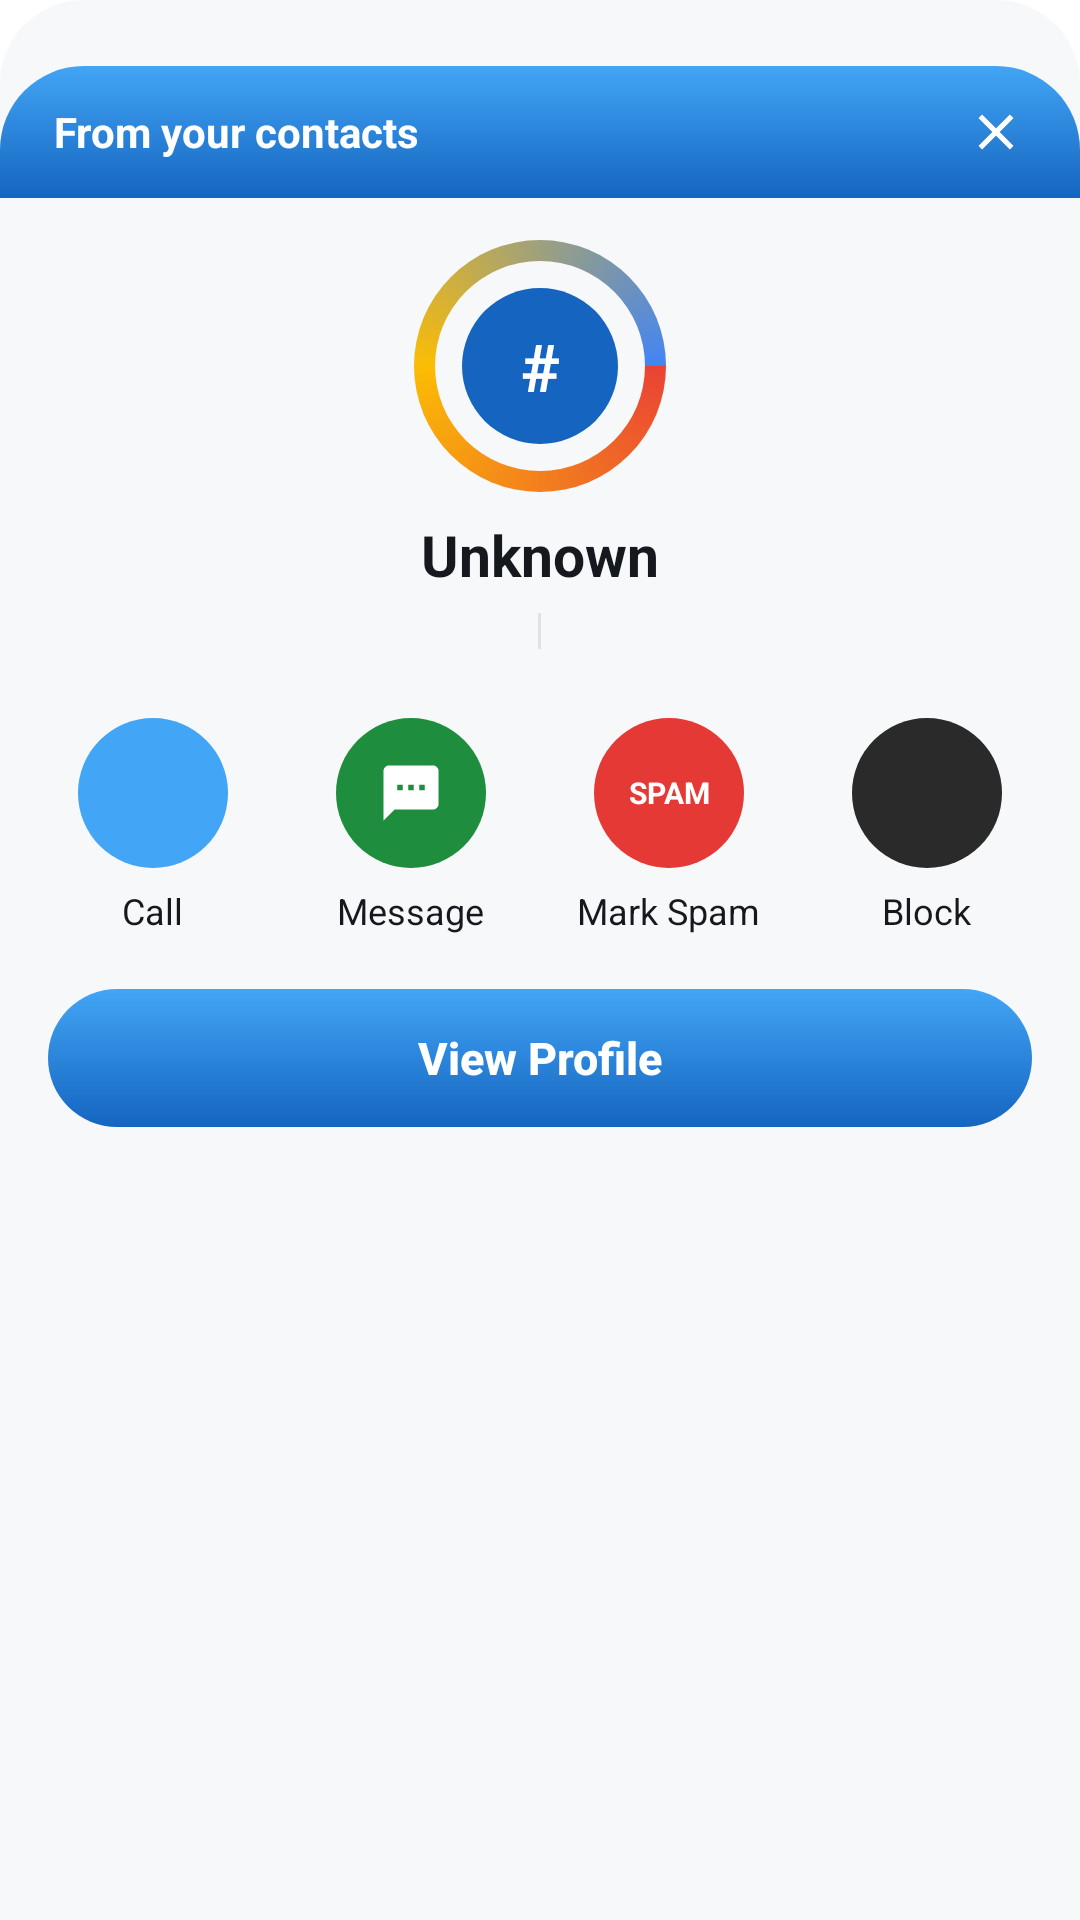

Icons on this 1080px x 1920px Android screen, each with the point to tap as (x=x, y=y):
Cancel: (x=996, y=126)
